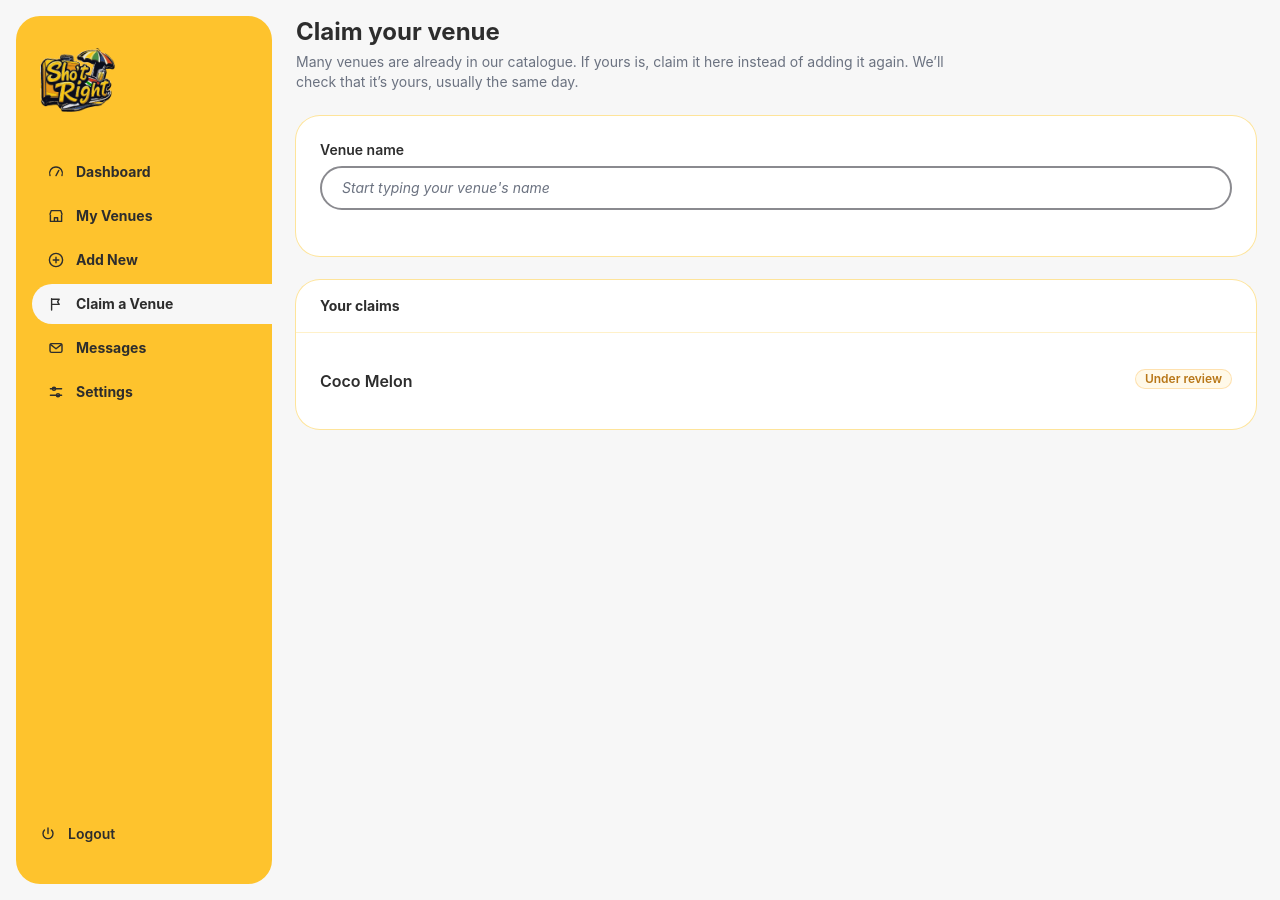
Test case: claim a venue — the portal search › says so when the claim is already filed, instead of opening a second
This screenshot has width=1280, height=900.
Expected: the text "Under review" is shown, [1135,369,1232,389]
Type "coco" into the search field labelled "Venue name" at (776, 188), box [320,166,1232,210]
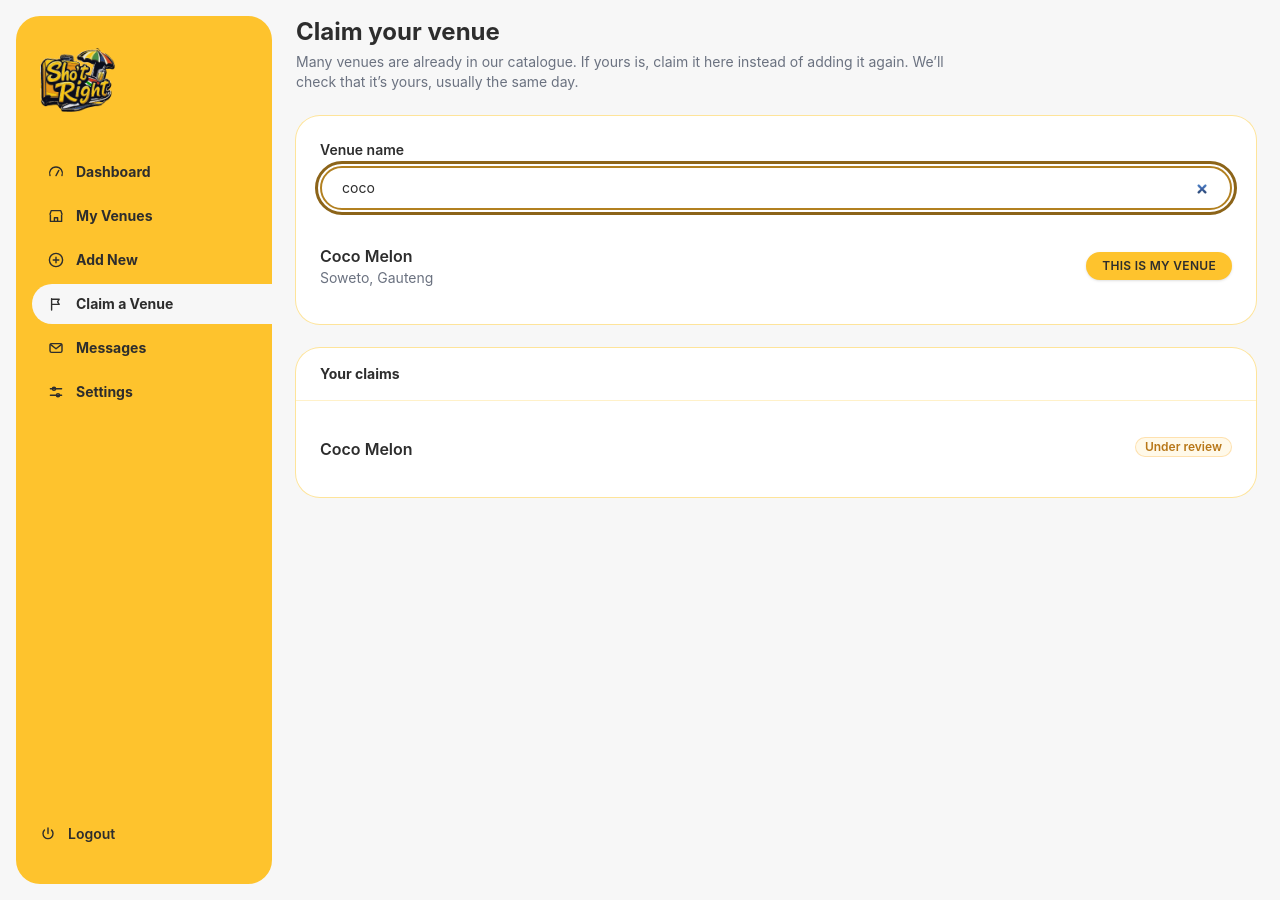
Click the button with aria-label "Claim Coco Melon" at (1159, 266), box [1086,252,1232,280]
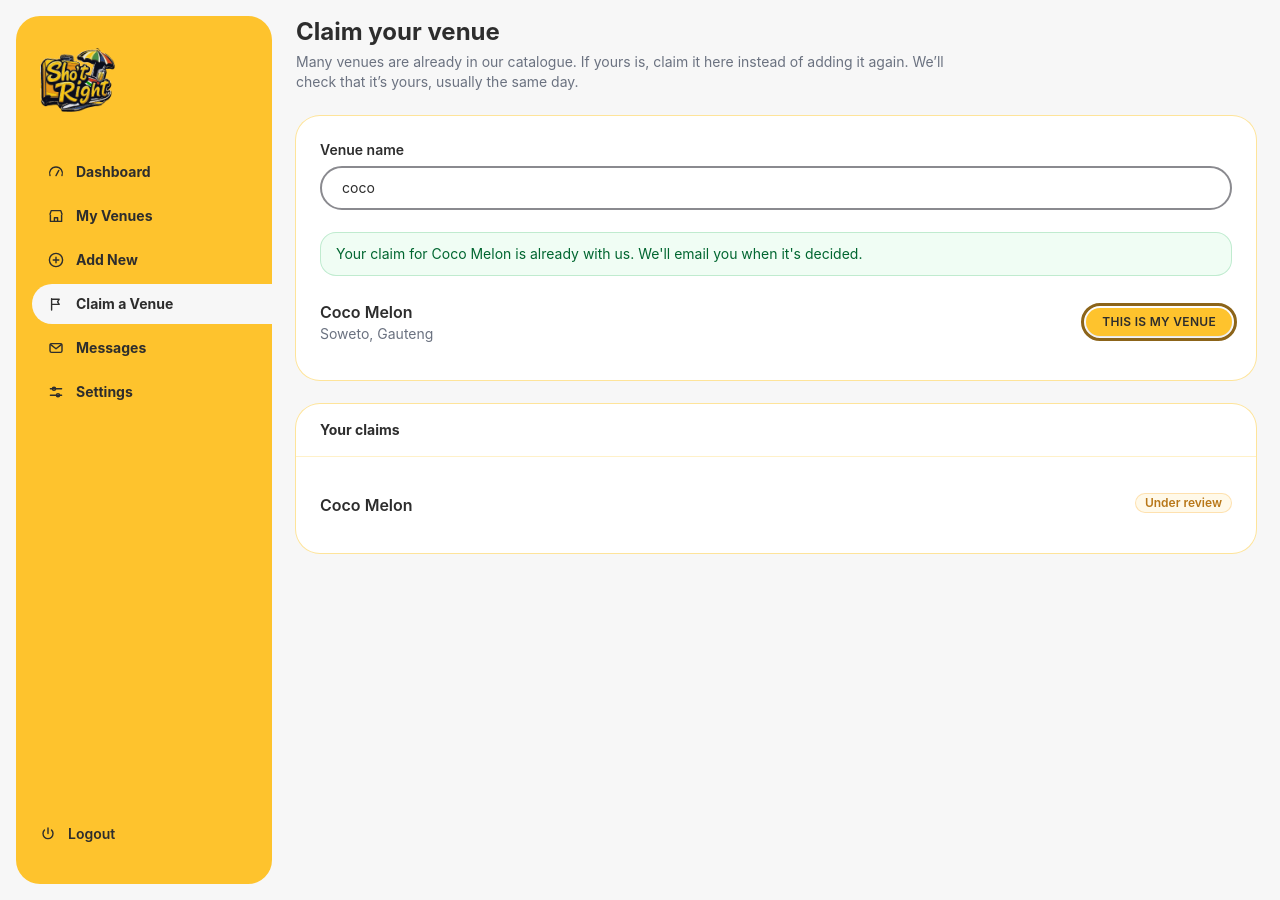
Expected: the text "already with us" is shown, [336,245,862,262]
